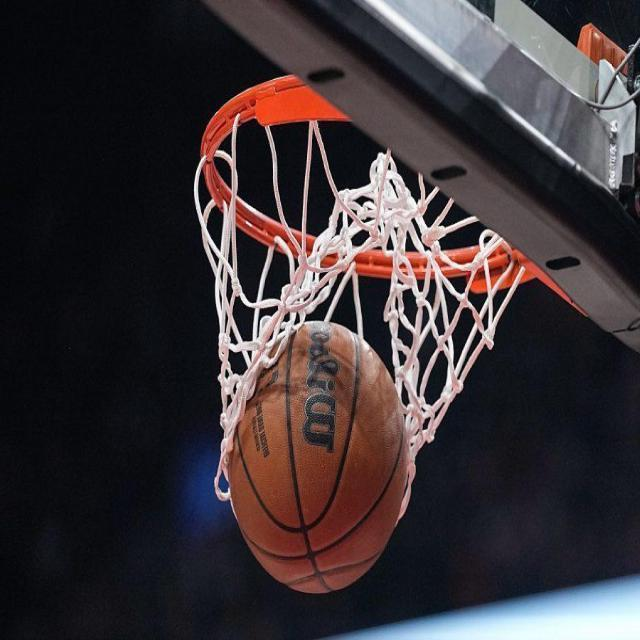hoop: (159, 54, 560, 545)
